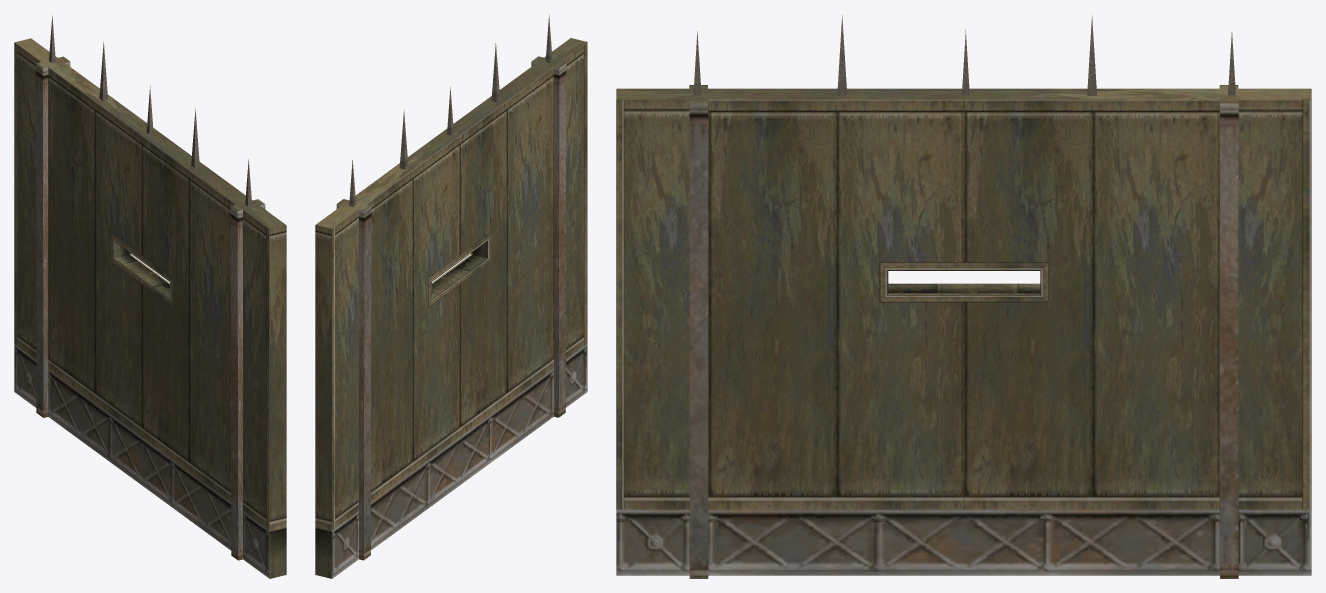
The model's file is M8_VillageDoors.glb.
3 renders of one model, left to right at view 1: azimuth 30°, elevation 25°; view 2: azimuth 150°, elevation 25°; view 3: azimuth 270°, elevation 25°, orthographic. The views are drawn at different scales.
Parts seen in each view (by area): view 1: M8_VILLAGEDOORS; view 2: M8_VILLAGEDOORS; view 3: M8_VILLAGEDOORS.
Part boxes in pixels (x1=…): M8_VILLAGEDOORS: x1=14, y1=15, x2=286, y2=578; M8_VILLAGEDOORS: x1=315, y1=14, x2=587, y2=578; M8_VILLAGEDOORS: x1=616, y1=15, x2=1311, y2=578.
Size of the model in its own units: 0.249 by 3.51 by 3.97.
3 materials, 3 textured.
